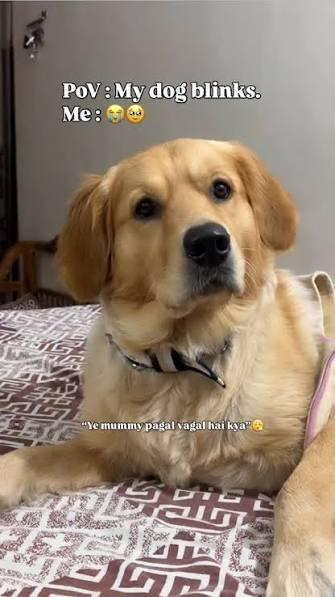adult_dog: (0, 137, 335, 591)
